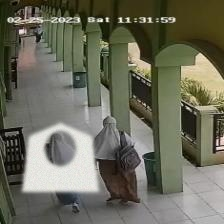Mukena: (22, 122, 98, 192)
